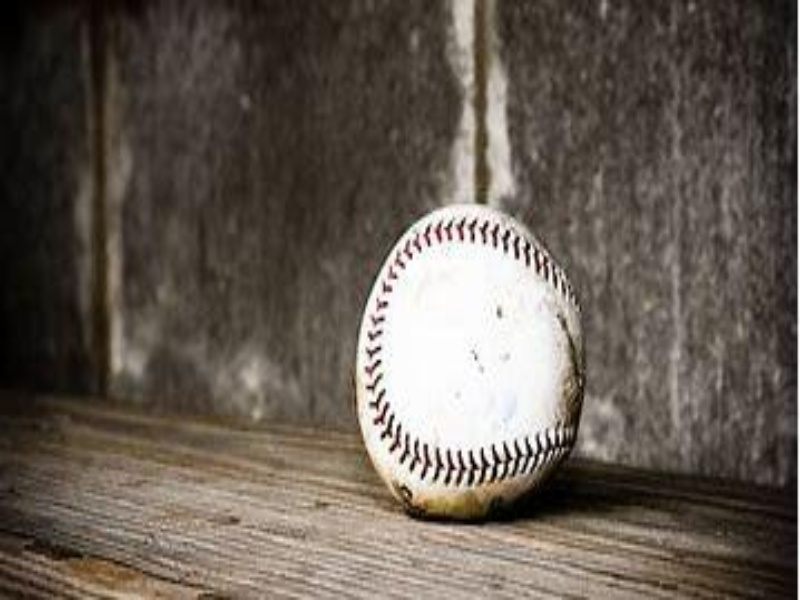baseball: (342, 201, 598, 519)
